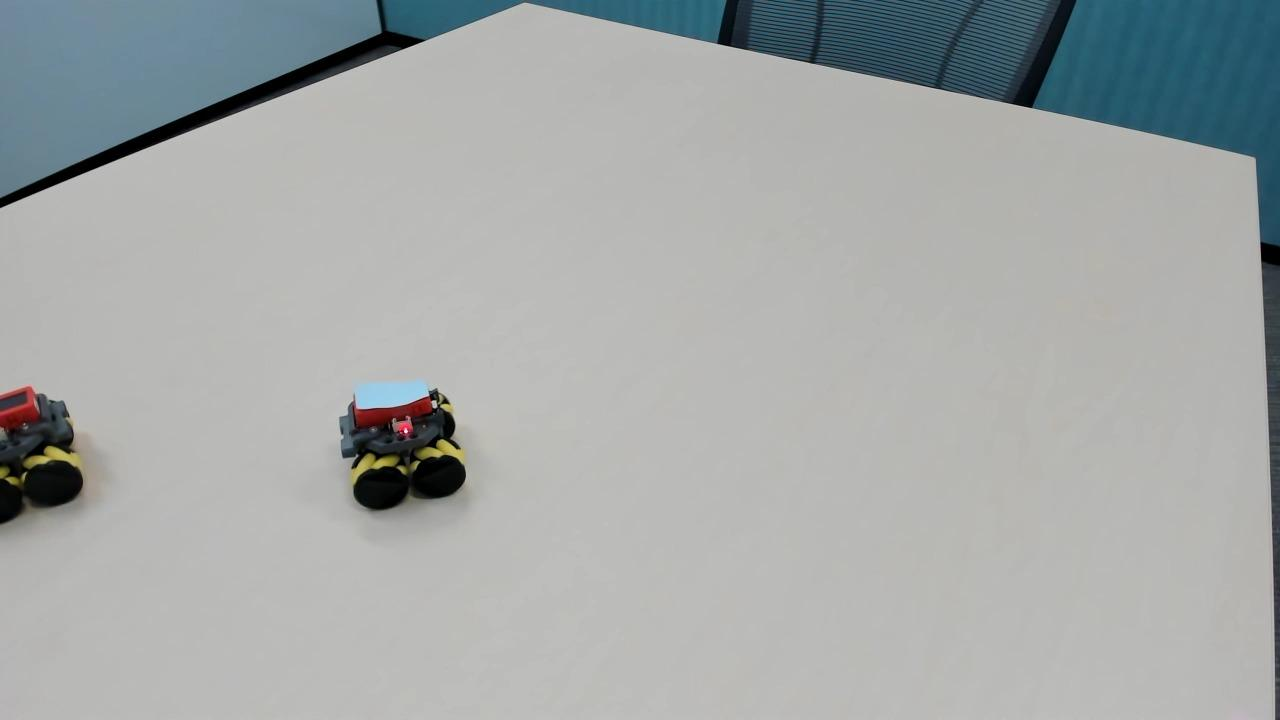B-Robot: (338, 374, 489, 514)
R-Robot: (2, 368, 90, 535)
